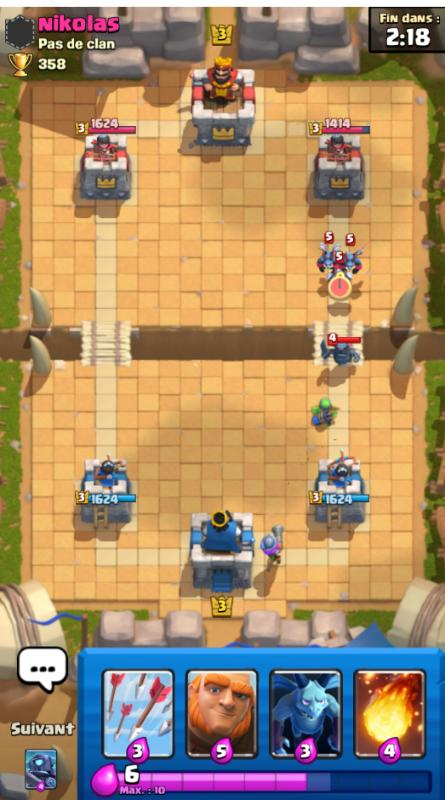gargouille: (345, 240, 387, 279), (320, 257, 358, 288), (307, 244, 349, 268)
gobelin_lances: (304, 387, 349, 427)
mini_PEKKA: (320, 335, 375, 368)
mousquetaire: (257, 521, 287, 572)
